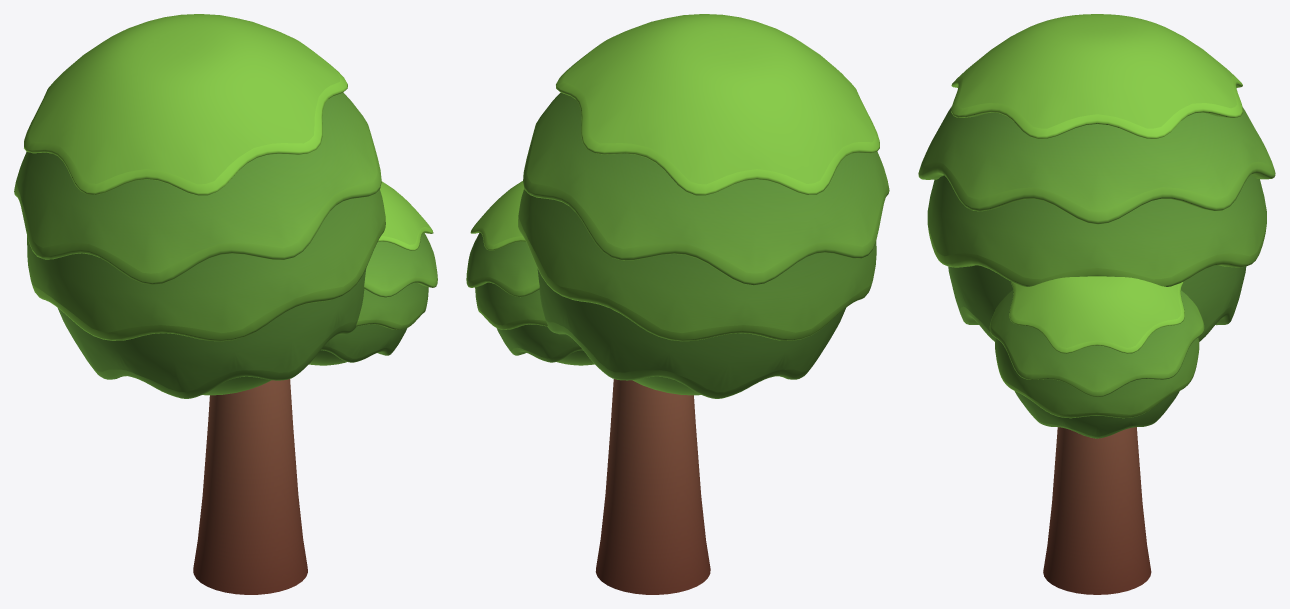
Rendered from Tree.fbx.
3 renders of one model, left to right at view 1: azimuth 30°, elevation 25°; view 2: azimuth 150°, elevation 25°; view 3: azimuth 270°, elevation 25°, orthographic. The views are drawn at different scales.
Parts seen in each view (by area): view 1: Circle.002; view 2: Circle.002; view 3: Circle.002.
Boxes of the visible parts, <box> form: Circle.002: <box>14,14,437,594</box>; Circle.002: <box>466,14,889,594</box>; Circle.002: <box>918,14,1275,594</box>.
Size of the model in its own units: 243 by 329 by 206.
